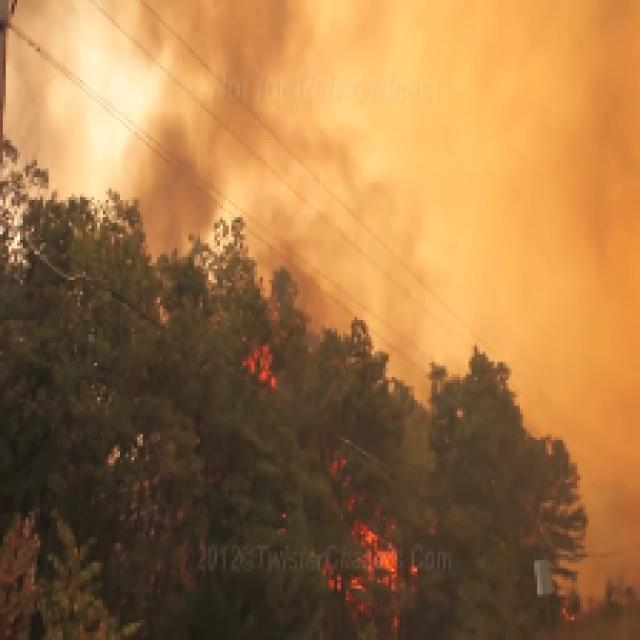Fire: (203, 294, 434, 640)
Smoke: (0, 0, 640, 303)
